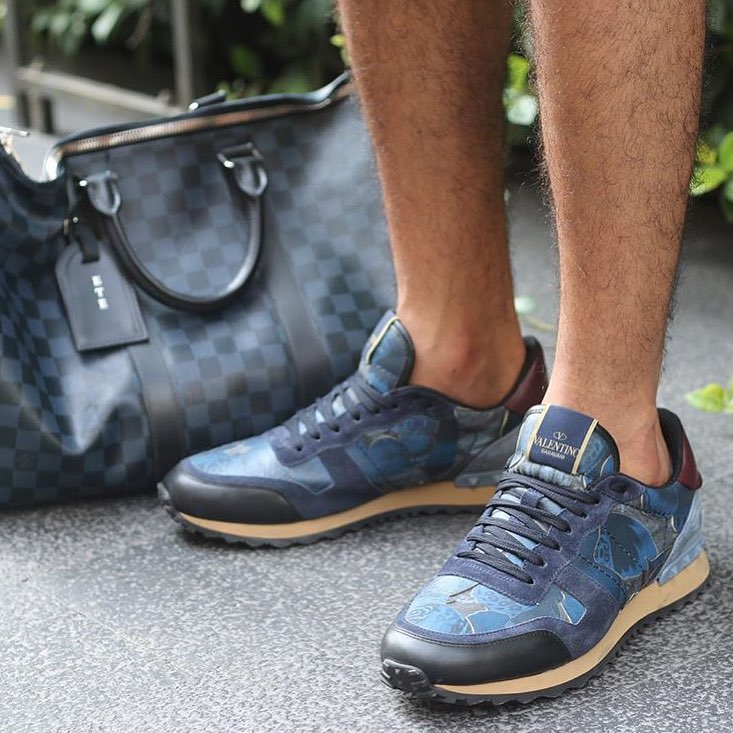sneaker: (354, 376, 722, 731), (139, 297, 573, 585)
